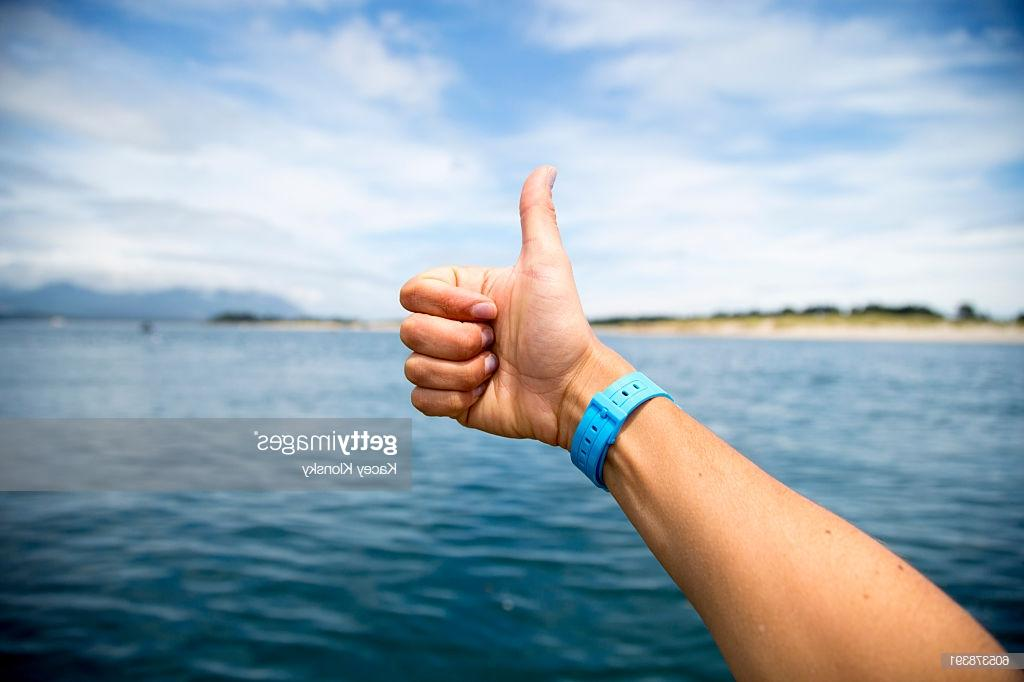thumbsup: (400, 164, 561, 420)
